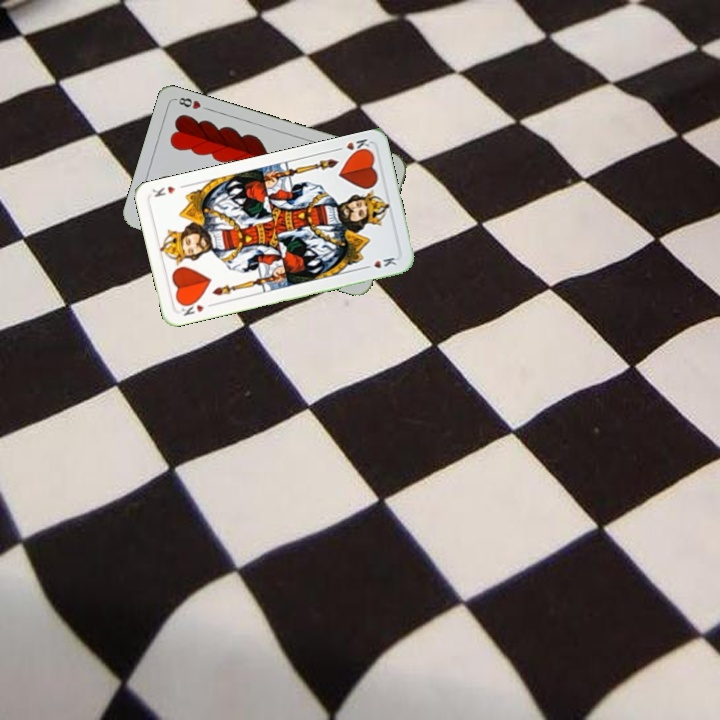HK: (332, 134, 372, 157), (177, 297, 216, 319)
